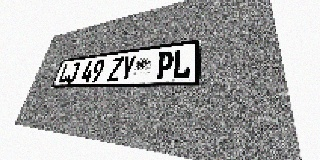4: (80, 60, 96, 83)
9: (89, 59, 106, 82)
J: (65, 62, 80, 83)
L: (172, 48, 191, 79), (57, 63, 72, 84)
P: (155, 50, 174, 80)
Y: (119, 55, 137, 81)
Z: (107, 57, 124, 82)
